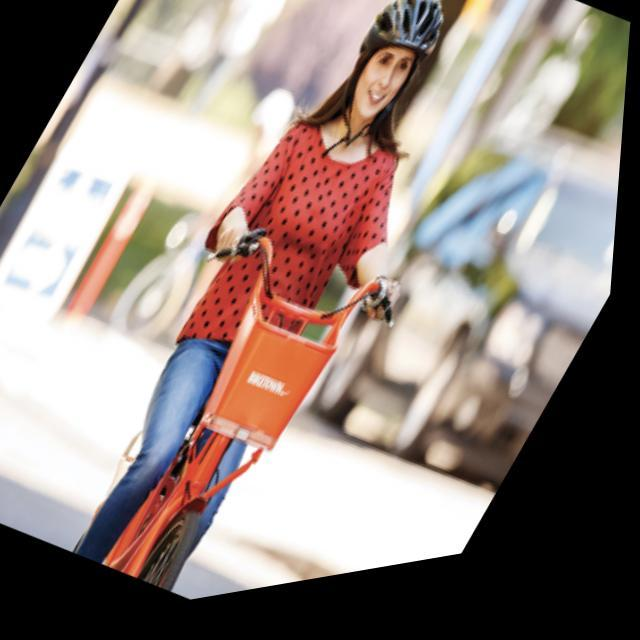Helmet: (329, 0, 463, 144)
